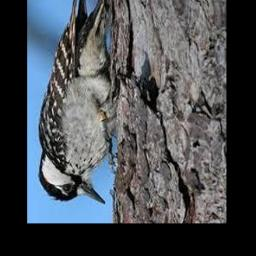Woodpecker: (37, 0, 138, 204)
